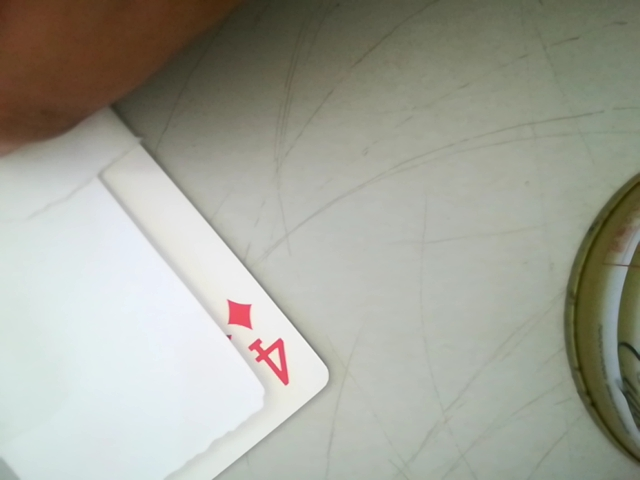fk 4: (212, 285, 305, 402)
